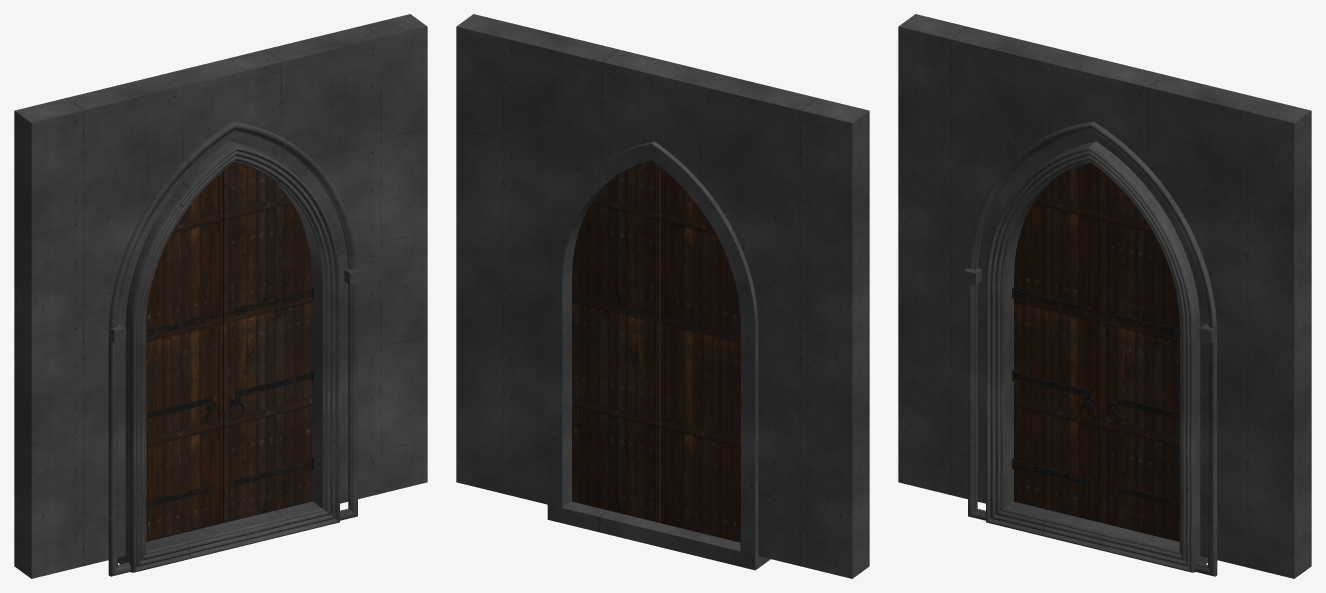
File: Door_SafeRoom.gltf
3 views of the same model, side by side, from view 1: azimuth 30°, elevation 25°; view 2: azimuth 150°, elevation 25°; view 3: azimuth 330°, elevation 25° (orthographic).
Visible parts, largest first — view 1: Door_SafeRoom_Wall, Door_Gothic_Frame, Door_Gothic_LeafR, Door_Gothic_LeafL, Door_Gothic_LeafR_Iron, Door_Gothic_LeafL_Iron; view 2: Door_SafeRoom_Wall, Door_Gothic_LeafR, Door_Gothic_LeafL, Door_Gothic_Frame; view 3: Door_SafeRoom_Wall, Door_Gothic_Frame, Door_Gothic_LeafL, Door_Gothic_LeafR, Door_Gothic_LeafL_Iron, Door_Gothic_LeafR_Iron.
Boxes of the visible parts, x1=… form: Door_SafeRoom_Wall: x1=14, y1=14, x2=427, y2=578; Door_Gothic_Frame: x1=108, y1=121, x2=361, y2=576; Door_Gothic_LeafR: x1=223, y1=163, x2=311, y2=522; Door_Gothic_LeafL: x1=146, y1=172, x2=222, y2=541; Door_Gothic_LeafR_Iron: x1=229, y1=287, x2=313, y2=485; Door_Gothic_LeafL_Iron: x1=146, y1=313, x2=220, y2=507; Door_SafeRoom_Wall: x1=456, y1=14, x2=869, y2=578; Door_Gothic_LeafR: x1=572, y1=160, x2=660, y2=522; Door_Gothic_LeafL: x1=661, y1=168, x2=740, y2=542; Door_Gothic_Frame: x1=547, y1=141, x2=770, y2=570; Door_SafeRoom_Wall: x1=898, y1=14, x2=1311, y2=578; Door_Gothic_Frame: x1=964, y1=121, x2=1217, y2=576; Door_Gothic_LeafL: x1=1014, y1=163, x2=1102, y2=522; Door_Gothic_LeafR: x1=1103, y1=172, x2=1179, y2=541; Door_Gothic_LeafL_Iron: x1=1012, y1=287, x2=1096, y2=485; Door_Gothic_LeafR_Iron: x1=1105, y1=313, x2=1179, y2=507.
Size of what is drawn, in the model's own units: 4 by 4.52 by 0.5.
3 materials, 3 textured.
